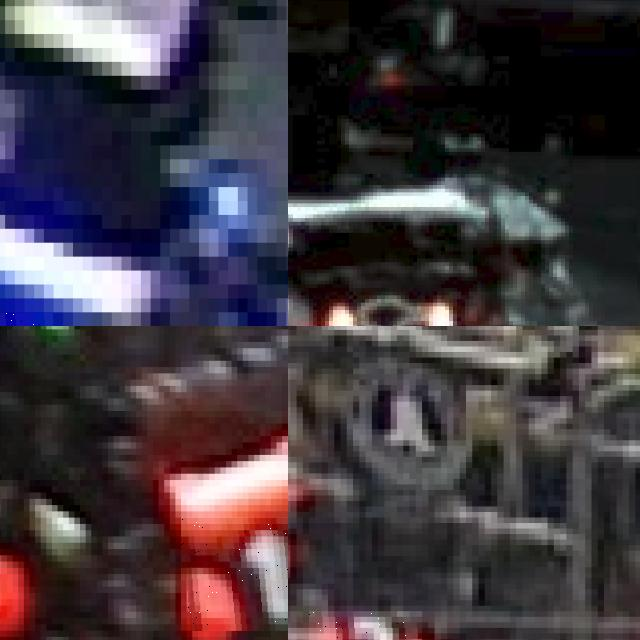R1: (181, 517, 288, 630)
R2: (309, 611, 422, 640)
Rs: (329, 299, 449, 326)
